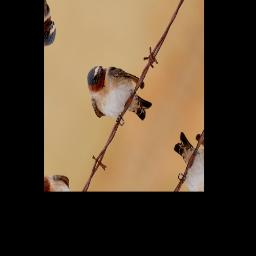Swallow: (76, 43, 158, 148)
